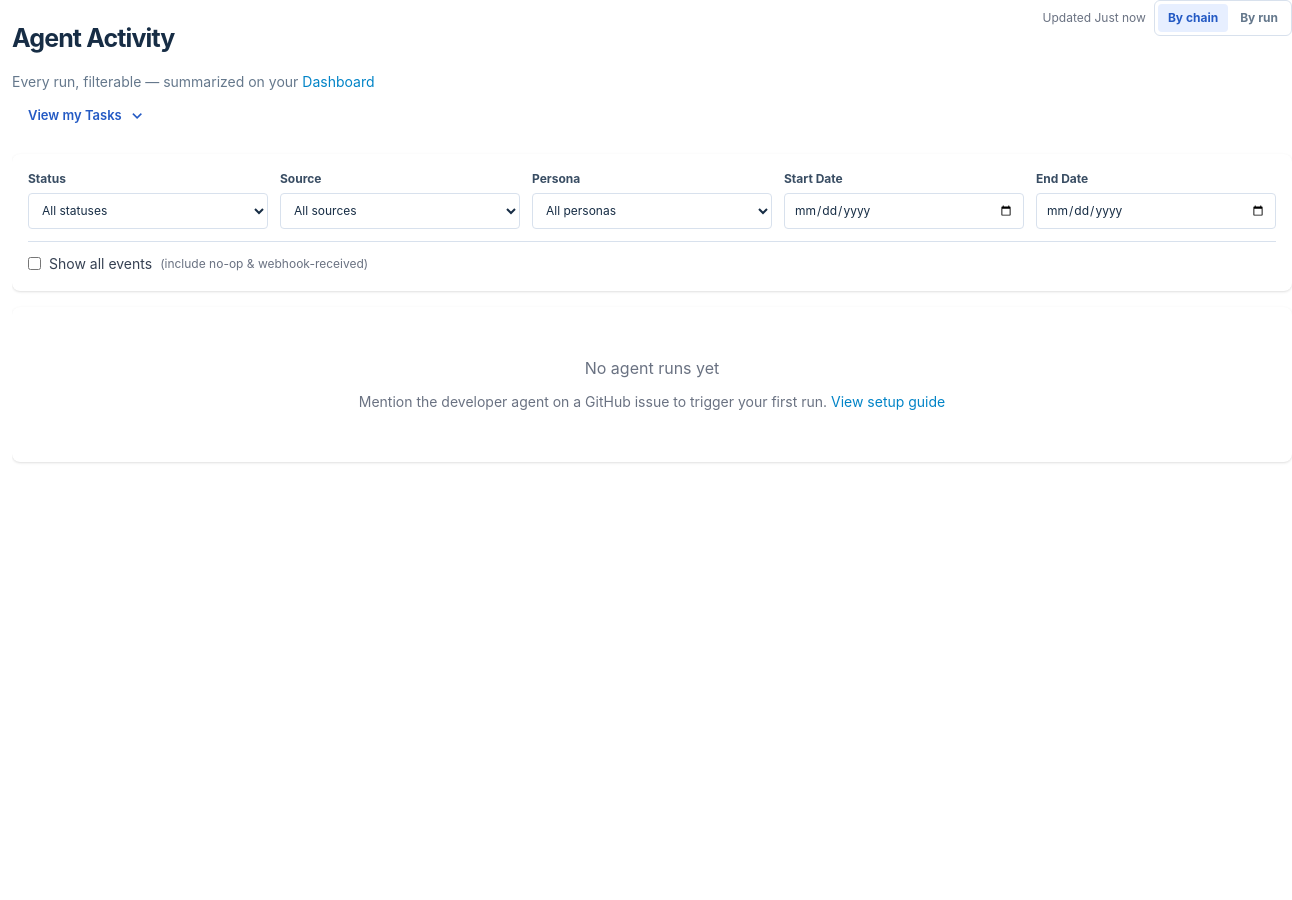
Scenario: AgentActivity Page › renders date-desc rows from mocked /me/agent-invocations
Click the tab "By run" at (1259, 18), box x1=1230 y1=4 x2=1288 y2=32
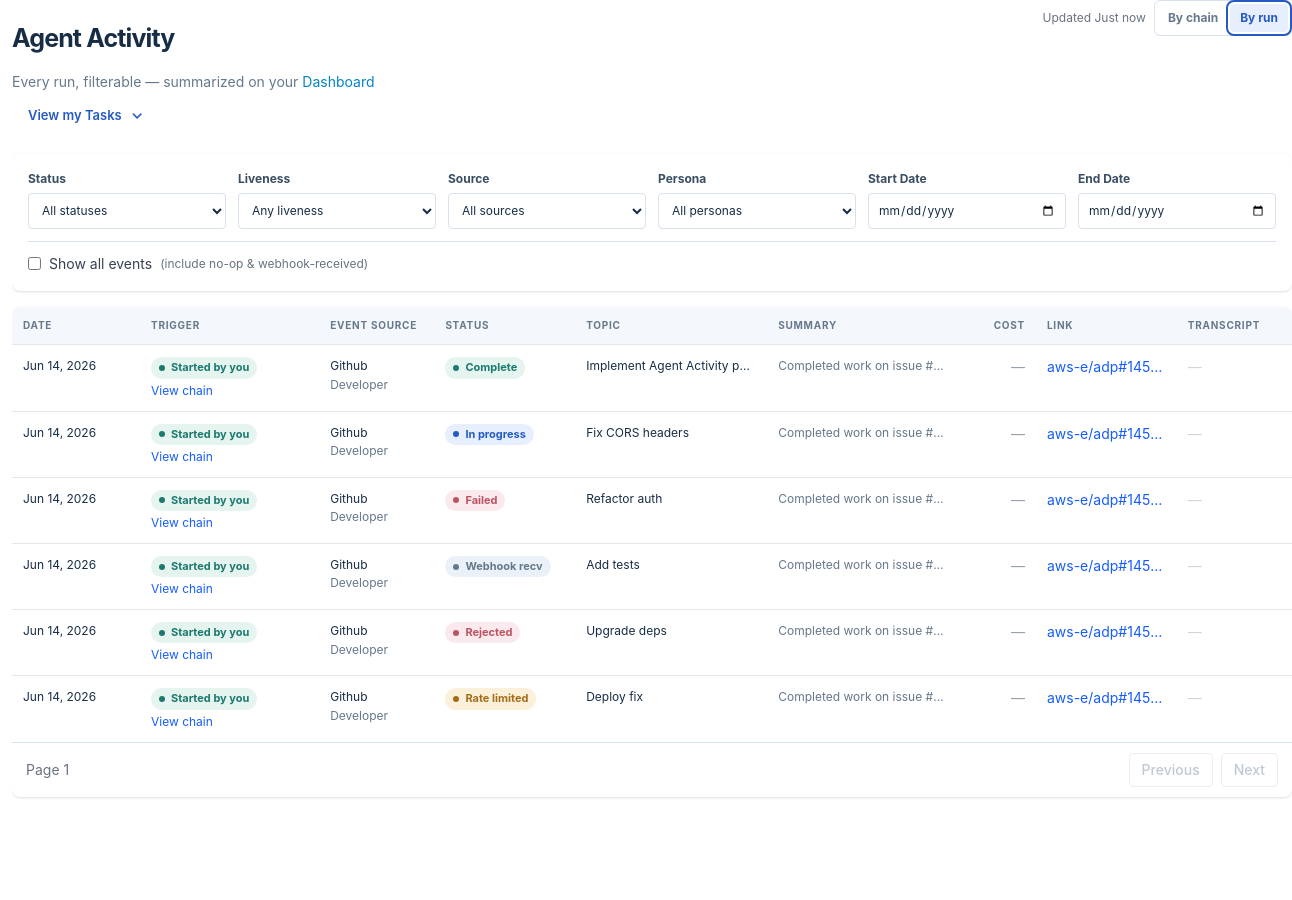
Expected: the text "Implement Agent Activity page" is shown, x1=575 y1=345 x2=767 y2=411
Expected: the text "Fix CORS headers" is shown, x1=575 y1=411 x2=767 y2=477
Expected: the text "Refactor auth" is shown, x1=575 y1=477 x2=767 y2=544
